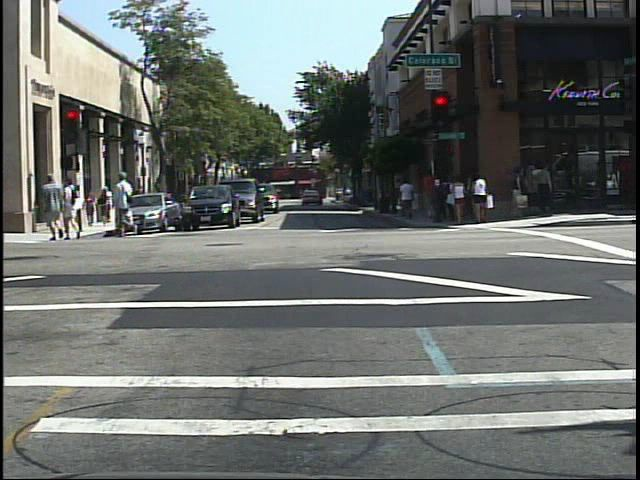person: (112, 167, 141, 240), (41, 170, 65, 245), (64, 174, 87, 244)
